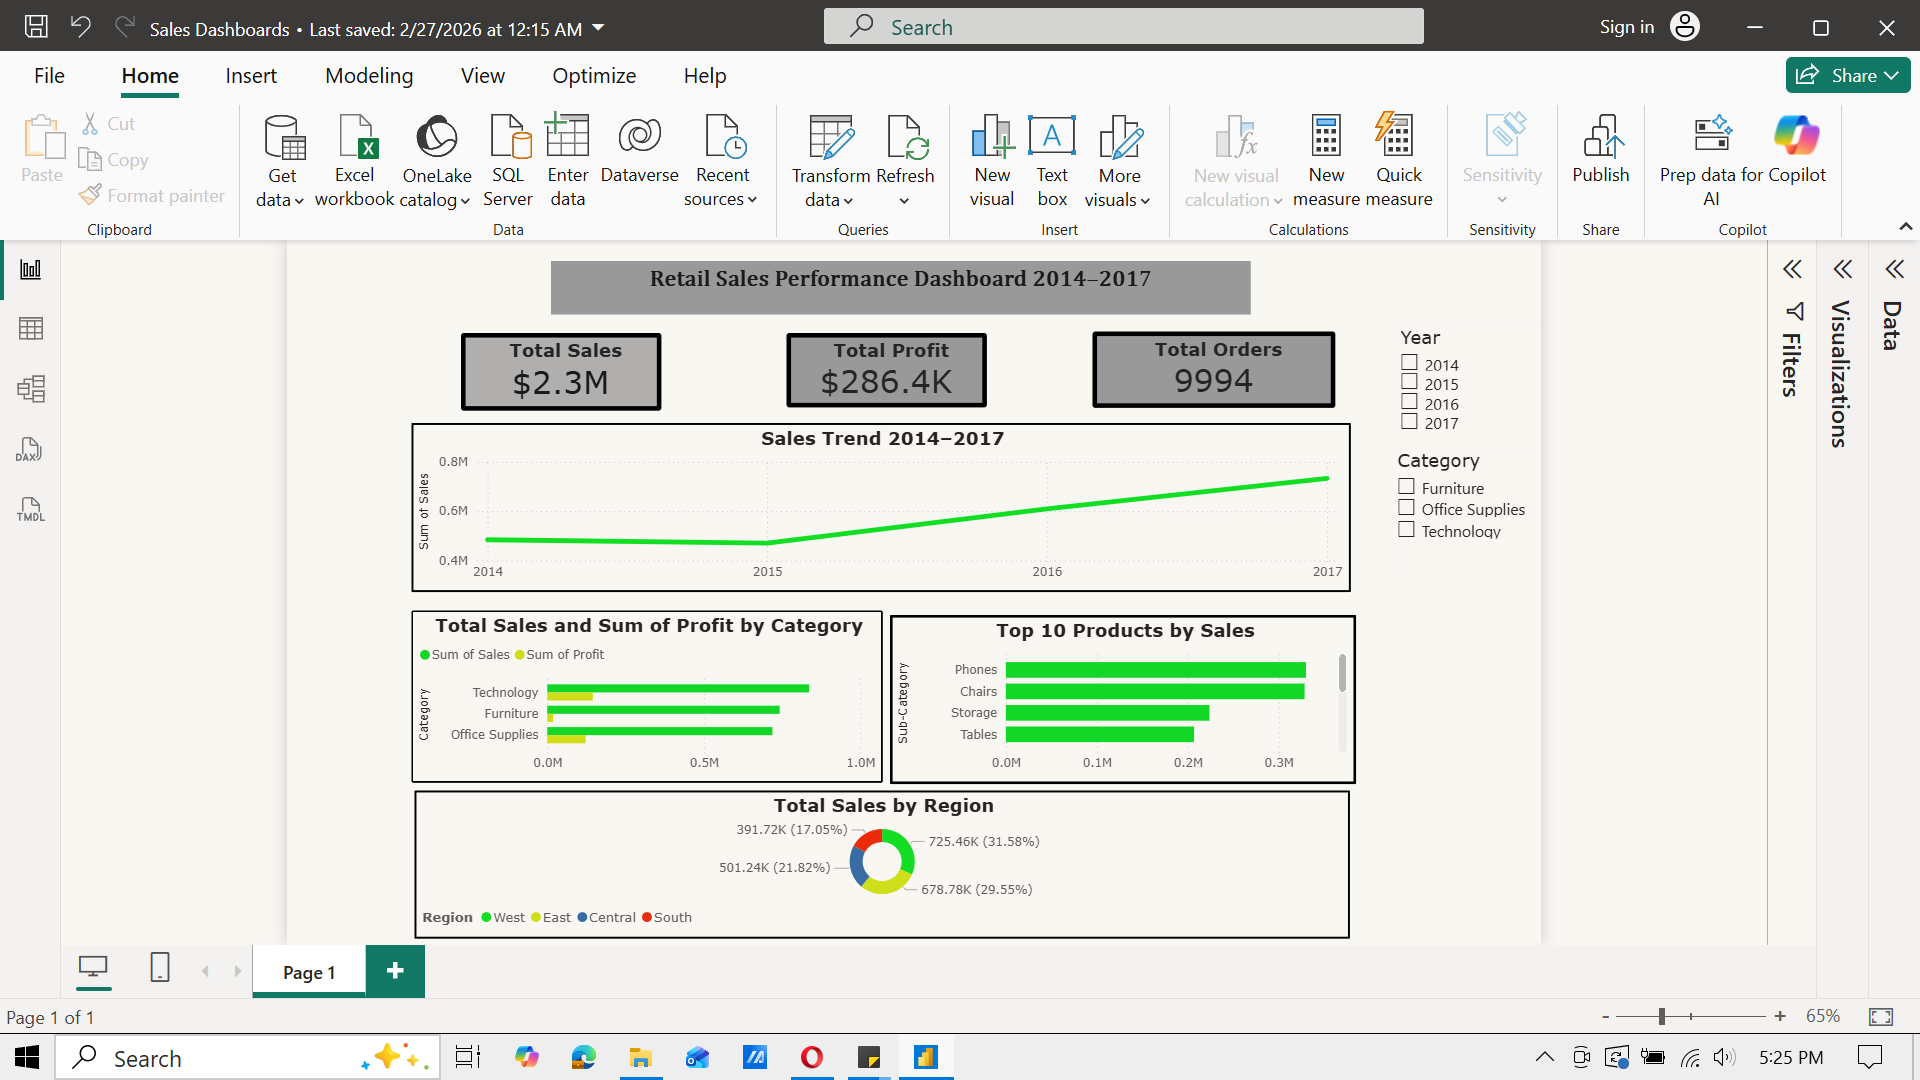

The dashboard page shown, as its layout file describes it:
{"tool":"powerbi","page":{"name":"Page 1","canvas":[1280,720],"ordinal":0},"visuals":[{"type":"lineChart","title":"Sales Trend 2014–2017","fields":{"Category":["Sample - Superstore1.Order Date.Variation.Date Hierarchy.Year","Sample - Superstore1.Order Date.Variation.Date Hierarchy.Quarter","Sample - Superstore1.Order Date.Variation.Date Hierarchy.Month","Sample - Superstore1.Order Date.Variation.Date Hierarchy.Day"],"Y":["Sum(Sample - Superstore1.Sales)"]},"box":[127,187.6,959.1,172.5],"z":0},{"type":"clusteredBarChart","title":"Total Sales and Sum of Profit by Category","fields":{"Category":["Sample - Superstore1.Category"],"Y":["Sum(Sample - Superstore1.Sales)","Sum(Sample - Superstore1.Profit)"]},"box":[127,379.1,481.4,176.3],"z":1},{"type":"clusteredBarChart","title":"Top 10 Products by Sales","fields":{"Category":["Sample - Superstore1.Sub-Category"],"Y":["Sum(Sample - Superstore1.Sales)"]},"box":[616,382.9,475.7,172.5],"z":2},{"type":"donutChart","title":"Total Sales by Region","fields":{"Category":["Sample - Superstore1.Region"],"Y":["Sum(Sample - Superstore1.Sales)"]},"box":[130.8,562.9,955.3,151.6],"z":3},{"type":"card","title":"Total Sales","fields":{"Values":["Sum(Sample - Superstore1.Sales)"]},"box":[178.2,94.8,204.7,79.6],"z":4},{"type":"card","title":"Total Profit","fields":{"Values":["Sum(Sample - Superstore1.Profit)"]},"box":[509.9,94.8,204.7,75.8],"z":5},{"type":"card","title":"Total Orders","fields":{"Values":["CountNonNull(Sample - Superstore1.Order ID)"]},"box":[822.6,92.9,248.3,77.7],"z":6},{"type":"textbox","box":[270.2,20.8,714.3,54.8],"z":7},{"type":"listSlicer","fields":{"Values":["Sample - Superstore1.Order Date.Variation.Date Hierarchy.Year"]},"box":[1132,86.9,147.4,196.5],"z":8},{"type":"listSlicer","fields":{"Values":["Sample - Superstore1.Category"]},"box":[1129.6,212.3,149.7,212.3],"z":9}]}

Visuals, with their boxes on the page's 1280x720 design canvas (x1, y1, x2, y2). These are canvas units, not pixel positions in the 1920x1080 screenshot, which may show the page scaled, cropped or inside an application window:
"Sales Trend 2014–2017" lineChart: crop(127, 188, 1086, 360)
"Total Sales and Sum of Profit by Category" clusteredBarChart: crop(127, 379, 608, 555)
"Top 10 Products by Sales" clusteredBarChart: crop(616, 383, 1092, 555)
"Total Sales by Region" donutChart: crop(131, 563, 1086, 714)
"Total Sales" card: crop(178, 95, 383, 174)
"Total Profit" card: crop(510, 95, 715, 171)
"Total Orders" card: crop(823, 93, 1071, 171)
textbox: crop(270, 21, 984, 76)
listSlicer - Sample - Superstore1.Order Date.Variation.Date Hierarchy.Year: crop(1132, 87, 1279, 283)
listSlicer - Sample - Superstore1.Category: crop(1130, 212, 1279, 425)
